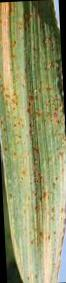Wheat: (2, 18, 62, 132), (5, 148, 66, 209), (19, 217, 57, 276)
